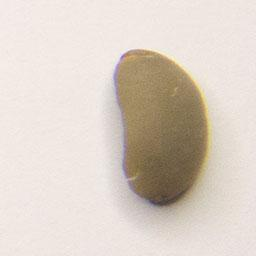premium: (110, 45, 213, 209)
